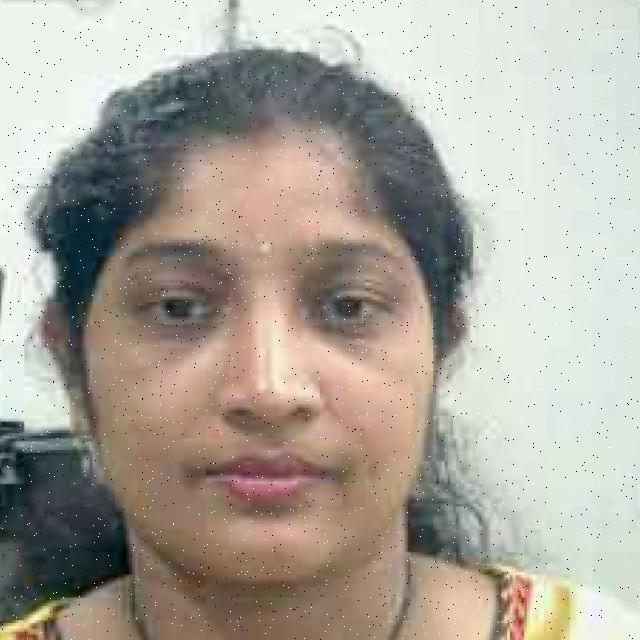puffy_eyes: (143, 320, 222, 356), (311, 324, 380, 354)
